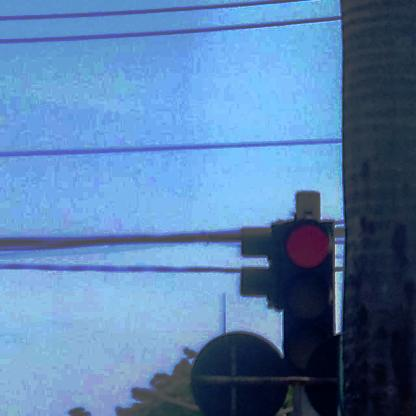Traffic Light -Red-: (279, 221, 336, 369)
